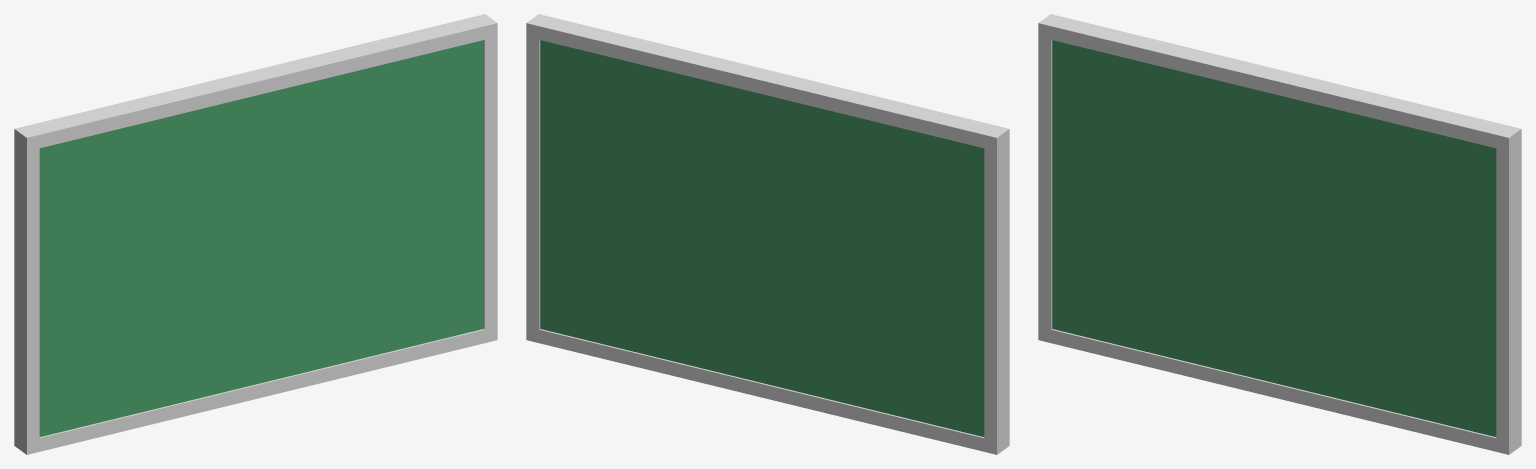
The model's file is Highway Billboard.fbx.
3 views of the same model, side by side, from view 1: azimuth 30°, elevation 25°; view 2: azimuth 150°, elevation 25°; view 3: azimuth 330°, elevation 25° (orthographic).
Parts seen in each view (by area): view 1: Big_Billboard; view 2: Big_Billboard; view 3: Big_Billboard.
Boxes of the visible parts, x1,y1,x2,y2 form: Big_Billboard: [14, 14, 497, 454]; Big_Billboard: [526, 14, 1009, 454]; Big_Billboard: [1038, 14, 1521, 454].
Bounding box in the file's own units: 6.79 × 4.37 × 0.312.
